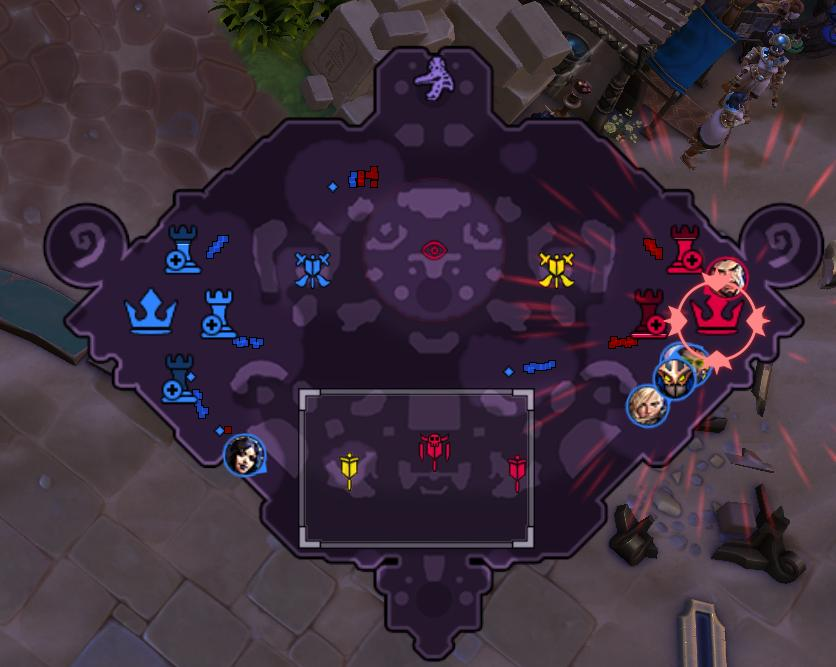blue nexus: (123, 286, 178, 334)
blue player: (666, 343, 711, 387), (222, 433, 266, 477), (626, 384, 669, 428), (654, 355, 696, 400)
blue tower: (160, 352, 204, 407), (199, 287, 238, 340), (163, 224, 202, 274)
red player: (702, 256, 746, 297), (706, 257, 743, 279)
red tower: (628, 286, 670, 339), (664, 222, 704, 274)
